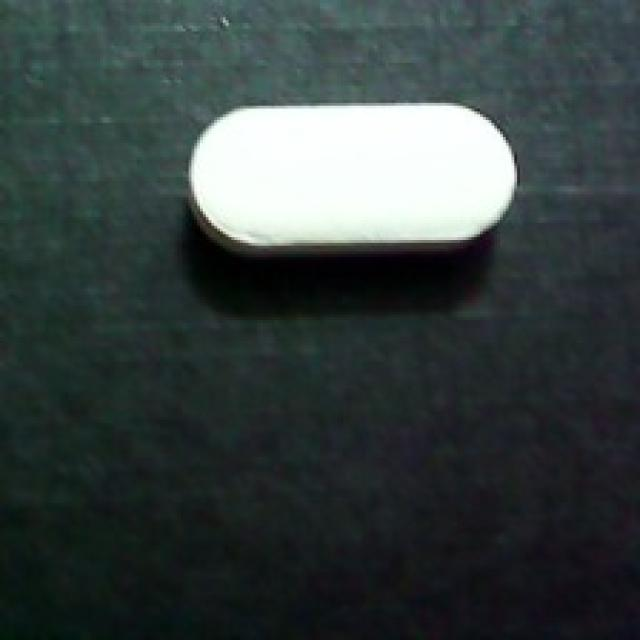no-defect: (183, 94, 520, 269)
